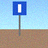sign: (13, 2, 26, 36)
